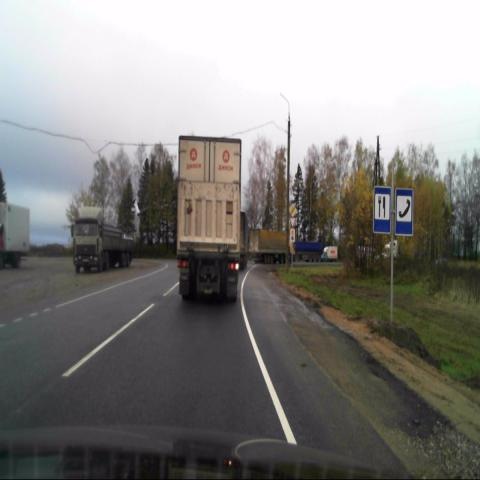7_6: (395, 190, 413, 236)
7_7: (374, 186, 390, 232)
